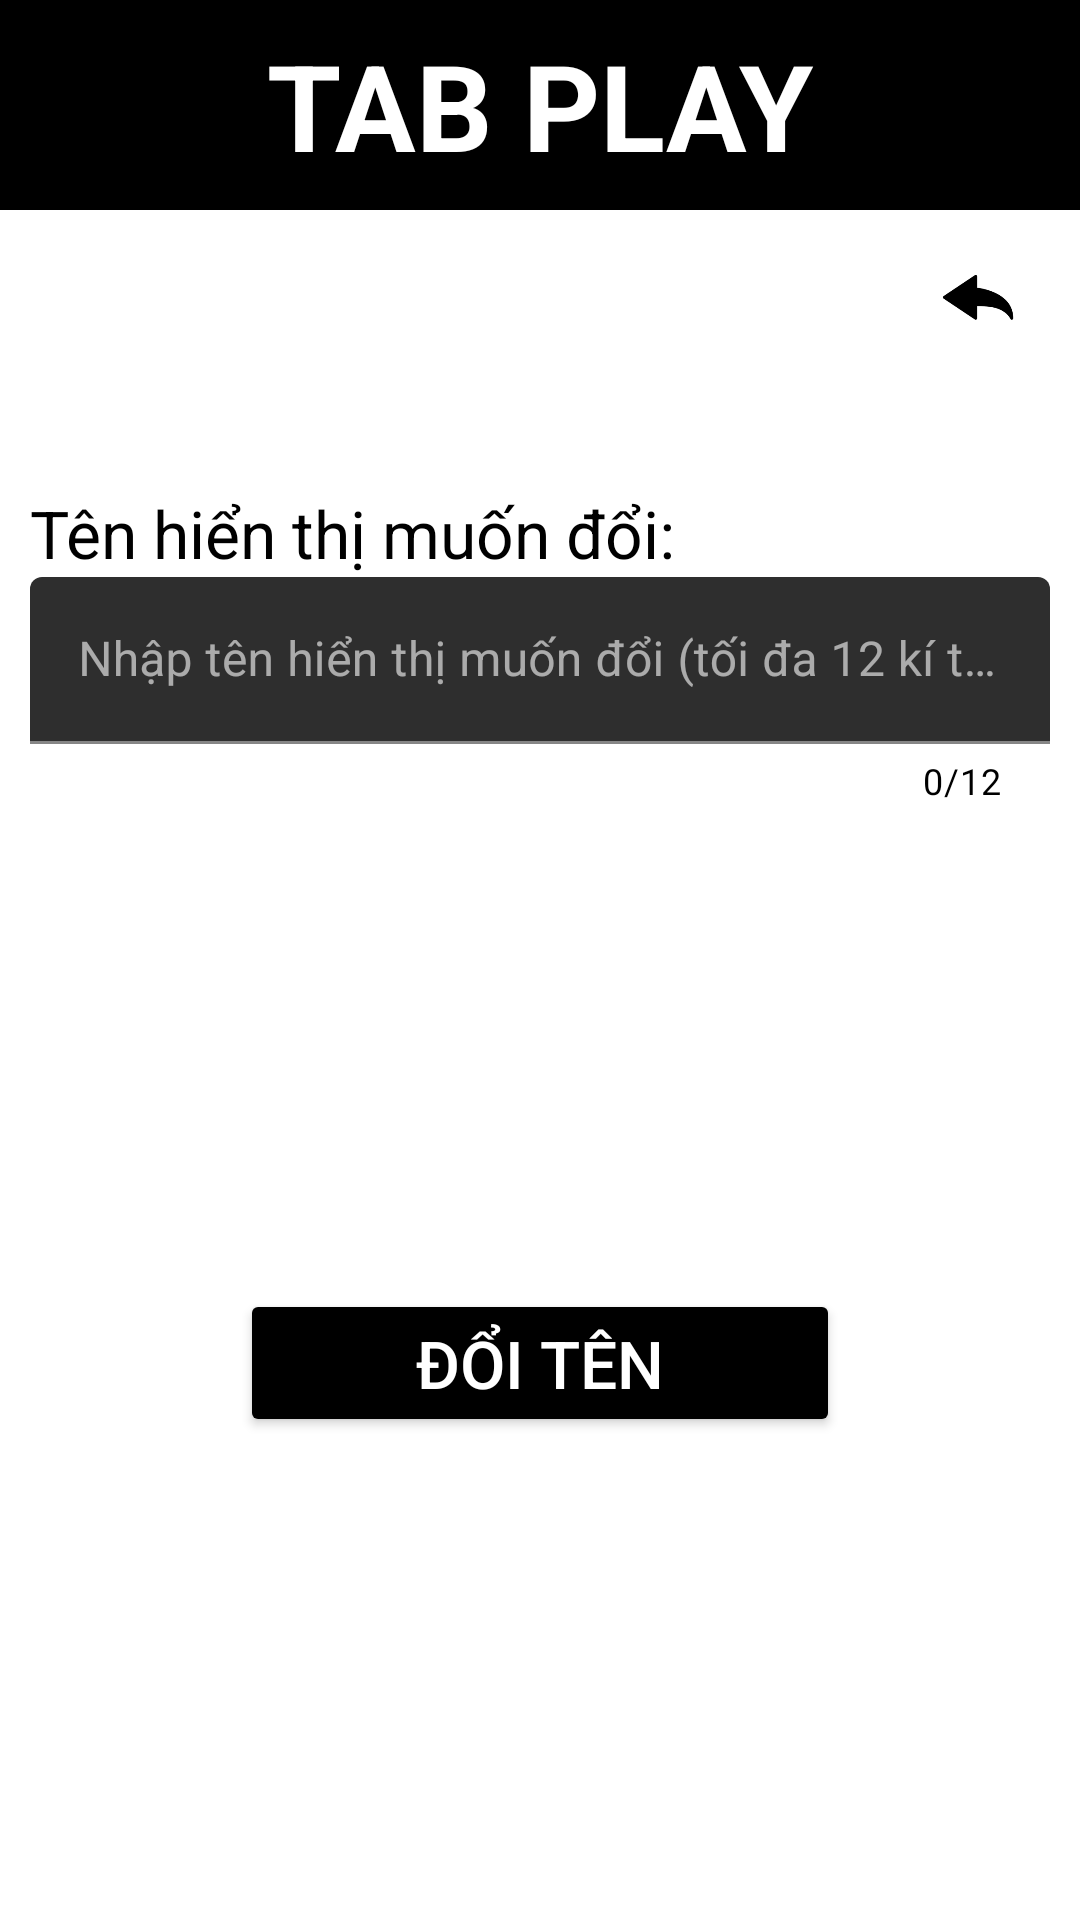

Icon bounding boxes for this 1080x1920 phone screenshot, format BBox(x1, y1, x2, y2):
back: BBox(943, 275, 1014, 320)
